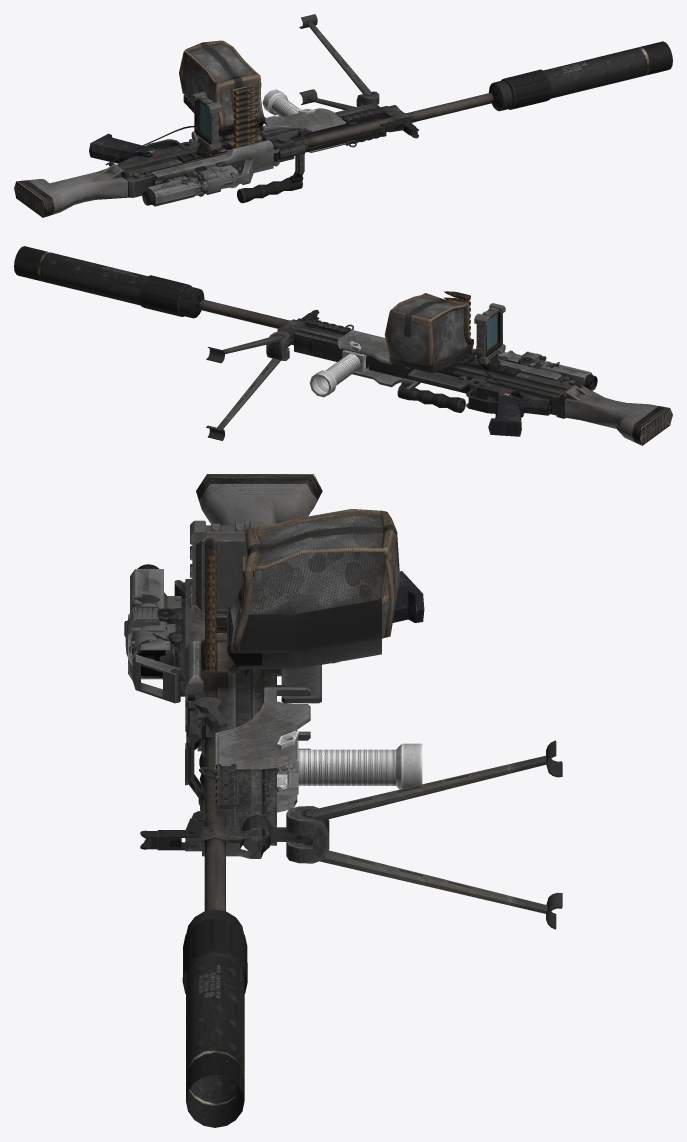
Rendered from viewmodel_mg4_LOD0.obj.
3 views of the same model, one above another, from view 1: azimuth 30°, elevation 25°; view 2: azimuth 150°, elevation 25°; view 3: azimuth 270°, elevation 25° (orthographic). The views are drawn at different scales.
Visible parts, largest first — view 1: mtl_weapon_mg4, mtl_weapon_suppressor_b, mtl_weapon_motion_tracker, mtl_weapon_mg4_scope, mtl_weapon_scar_h_foregrip, mtl_weapon_acog_2, mtl_weapon_thermal_sight_2, mtl_weapon_mg4_iron_sight_on; view 2: mtl_weapon_mg4, mtl_weapon_suppressor_b, mtl_weapon_motion_tracker, mtl_weapon_scar_h_foregrip, mtl_weapon_mg4_scope, mtl_motion_tracker_screen; view 3: mtl_weapon_mg4, mtl_weapon_suppressor_b, mtl_weapon_scar_h_foregrip, mtl_weapon_motion_tracker, mtl_weapon_mg4_scope, mtl_weapon_mg4_iron_sight_on, mtl_weapon_thermal_sight_2.
Part boxes in pixels (x1,y1,x2,y2): mtl_weapon_mg4: (14,14,493,217); mtl_weapon_suppressor_b: (489,41,672,111); mtl_weapon_motion_tracker: (105,92,229,165); mtl_weapon_mg4_scope: (142,158,253,206); mtl_weapon_scar_h_foregrip: (262,89,315,116); mtl_weapon_acog_2: (181,162,237,196); mtl_weapon_thermal_sight_2: (181,166,239,193); mtl_weapon_mg4_iron_sight_on: (184,119,418,195); mtl_weapon_mg4: (199,291,672,445); mtl_weapon_suppressor_b: (14,246,204,318); mtl_weapon_motion_tracker: (463,303,562,401); mtl_weapon_scar_h_foregrip: (309,341,368,397); mtl_weapon_mg4_scope: (539,362,597,390); mtl_motion_tracker_screen: (486,314,497,350); mtl_weapon_mg4: (174,474,562,929); mtl_weapon_suppressor_b: (182,909,247,1127); mtl_weapon_scar_h_foregrip: (277,731,422,794); mtl_weapon_motion_tracker: (190,520,265,632); mtl_weapon_mg4_scope: (128,564,181,703); mtl_weapon_mg4_iron_sight_on: (140,608,198,850); mtl_weapon_thermal_sight_2: (127,595,178,658).
Bounding box in the file's own units: 152 × 29.53 × 46.29.
